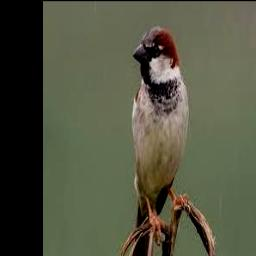Sparrow: (131, 25, 190, 256)
